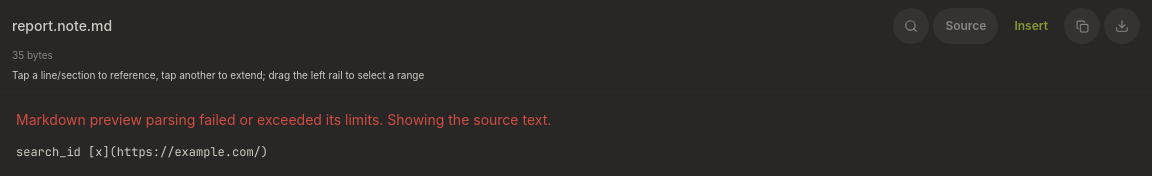
Test: Markdown preview failure recovery › shows a parse error and literal source, ends loading, and keeps source controls usable
expect the message is shown: met, box [16,111,551,128]
What coordinates should you click on to do the following:
click the button "Source"
I would click on:
 (966, 26)
Its box is [933,8,998,44].
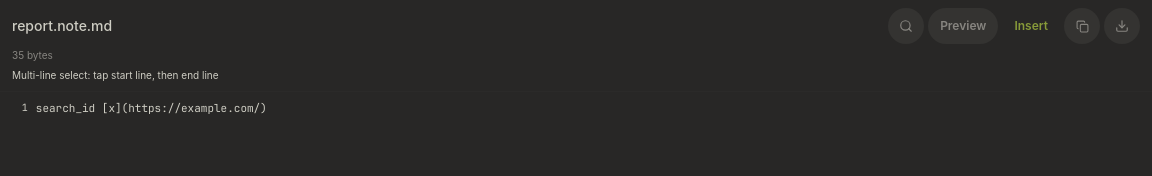
expect the button named "Tap to reference /repo/report.note.md:1" is shown: met, box [22,101,267,115]
expect the message is gone: met
